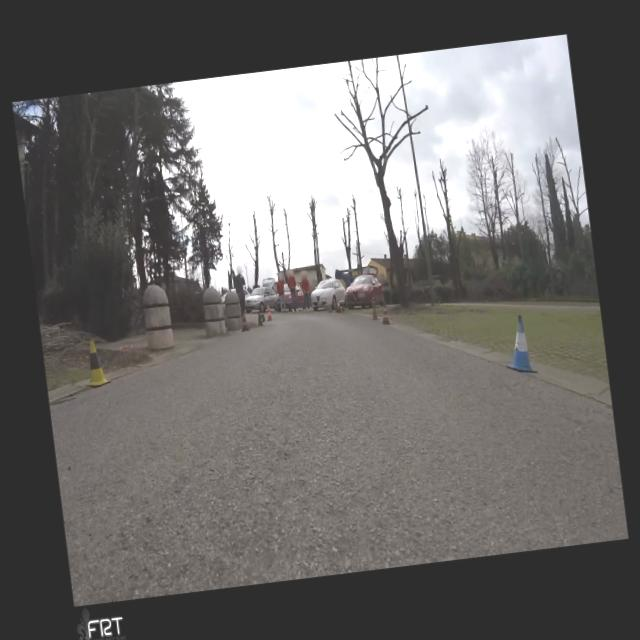blue_cone: (500, 313, 538, 376)
large_orange_cone: (379, 302, 390, 324), (239, 312, 249, 332), (264, 304, 272, 320)
orange_cone: (336, 300, 340, 308)
unknown_cone: (370, 304, 379, 320), (256, 313, 263, 326), (260, 314, 265, 321), (342, 304, 344, 311)
yellow_cone: (79, 338, 111, 387)
